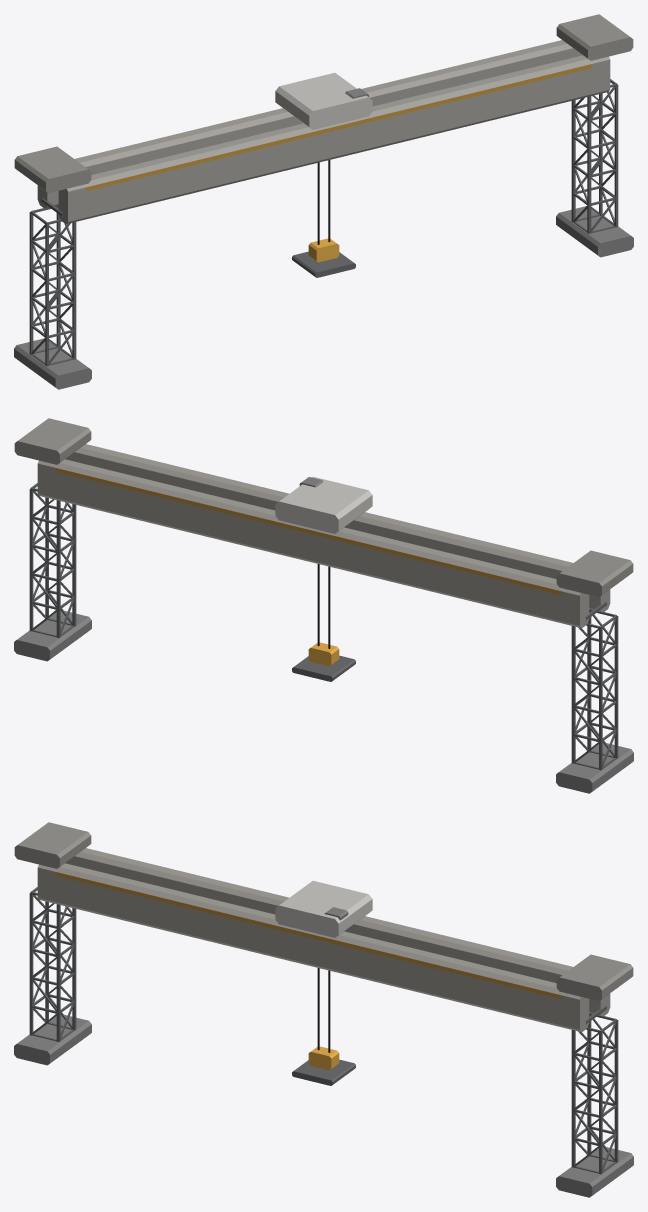
Rendered from gantryCrane.glb.
The picture shows the model from 3 angles, top to bottom: view 1: azimuth 30°, elevation 25°; view 2: azimuth 150°, elevation 25°; view 3: azimuth 330°, elevation 25°; orthographic projection.
Parts seen in each view (by area): view 1: gantryCrane; view 2: gantryCrane; view 3: gantryCrane.
Boxes of the visible parts, x1,y1,x2,y2 form: gantryCrane: [14, 14, 633, 389]; gantryCrane: [14, 418, 633, 793]; gantryCrane: [14, 822, 633, 1197].
Bounding box in the file's own units: 130 × 45.3 × 16.
